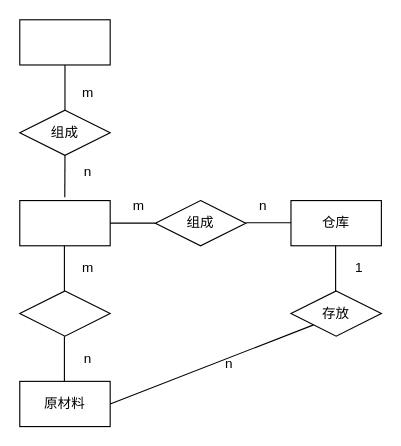
Some shapes in this 401 by 446 pixel diagram are drawn without their labels. The shapes that lost their labels are listed below. From the top down, each one's centre as x and y in pixels, then its label:
At point (64, 42): "产品".
At point (64, 222): "零件".
At point (64, 313): "制作".
